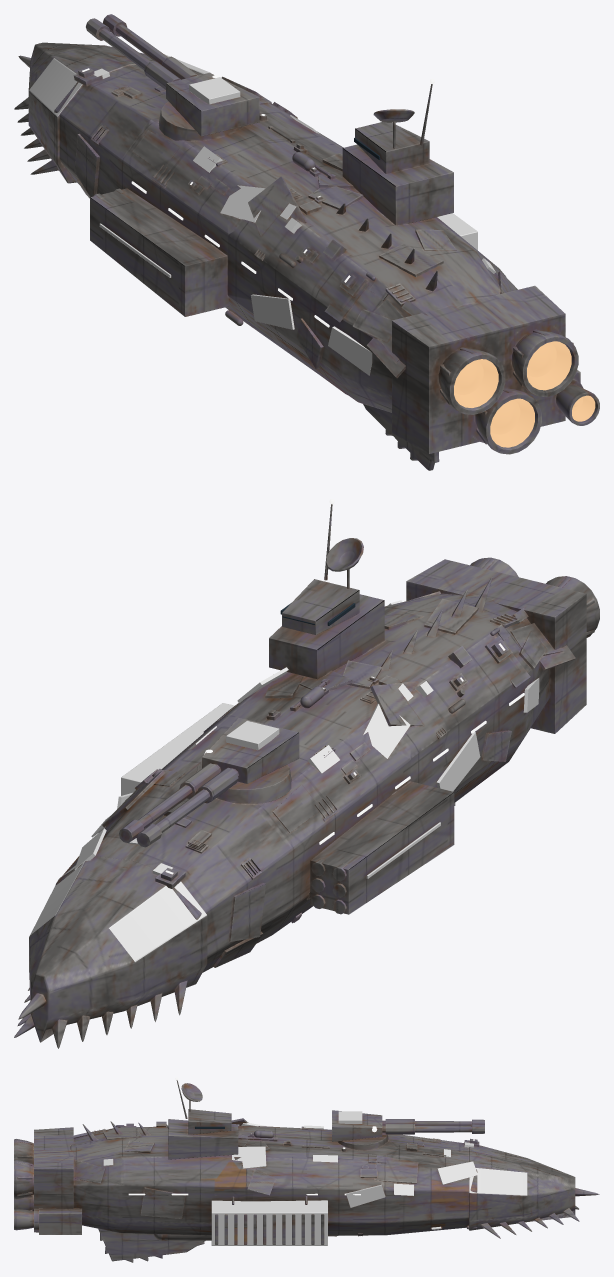
Rendered from npc_gunship.glb.
The picture shows the model from 3 angles, top to bottom: view 1: azimuth 30°, elevation 25°; view 2: azimuth 150°, elevation 25°; view 3: azimuth 270°, elevation 25°; orthographic projection. The views are drawn at different scales.
Visible parts, largest first — view 1: Hull; view 2: Hull; view 3: Hull.
Boxes of the visible parts, <box> form: Hull: <box>14,14,599,470</box>; Hull: <box>14,499,599,1048</box>; Hull: <box>14,1077,599,1262</box>.
Size of the model in its own units: 9.71 by 12.11 by 32.
Materials: 5 (1 with a texture image).
